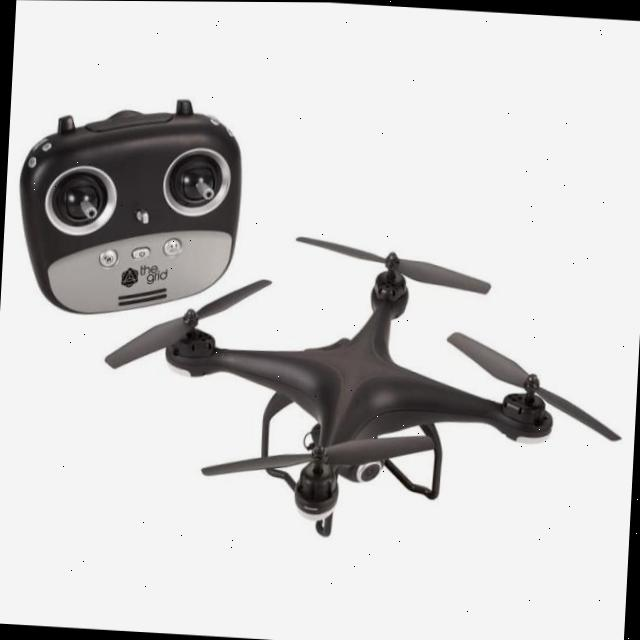drone: (94, 208, 640, 570)
